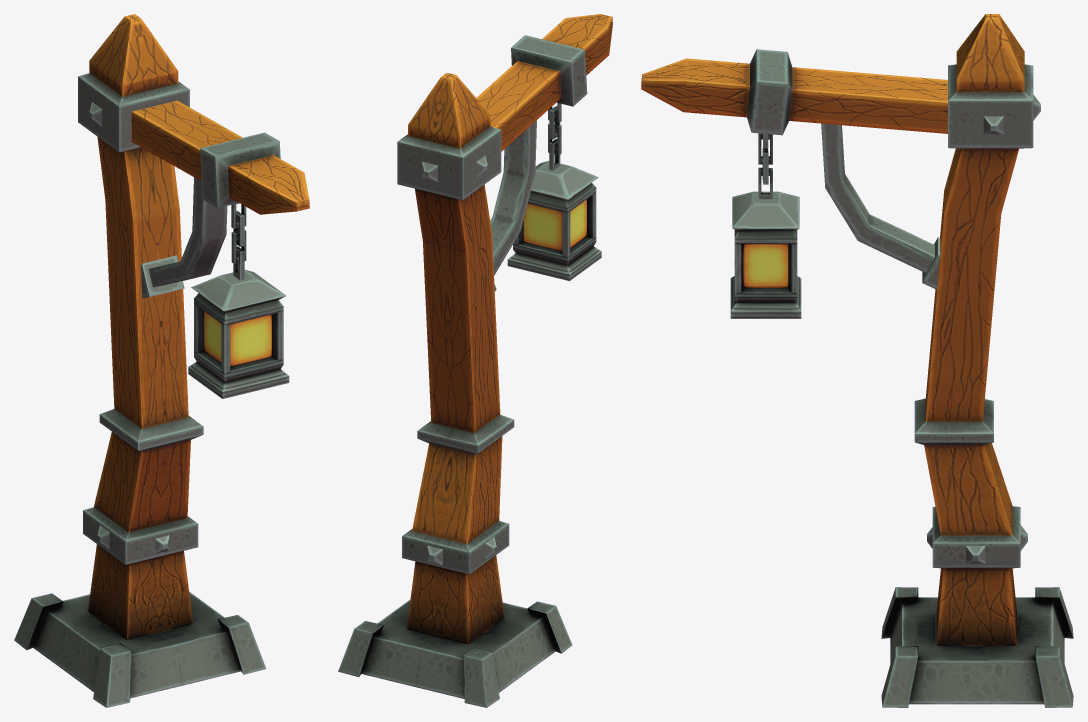
Rendered from wooden_lamp.fbx.
3 views of the same model, side by side, from view 1: azimuth 30°, elevation 25°; view 2: azimuth 150°, elevation 25°; view 3: azimuth 270°, elevation 25° (orthographic). The views are drawn at different scales.
Parts seen in each view (by area): view 1: wooden_pillar, wooden_lamp; view 2: wooden_pillar, wooden_lamp; view 3: wooden_pillar, wooden_lamp.
Boxes of the visible parts, <box> form: wooden_pillar: <box>14,14,309,707</box>; wooden_lamp: <box>188,203,289,398</box>; wooden_pillar: <box>338,14,612,707</box>; wooden_lamp: <box>507,103,601,280</box>; wooden_pillar: <box>641,14,1073,707</box>; wooden_lamp: <box>730,133,801,318</box>.
Size of the model in its own units: 564 by 1269 by 2108.
